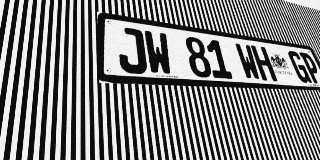1: (204, 39, 233, 79)
8: (184, 36, 213, 78)
G: (287, 50, 312, 83)
H: (250, 45, 278, 81)
J: (117, 26, 148, 74)
P: (299, 52, 320, 84)
W: (143, 30, 174, 76), (234, 43, 262, 80)
